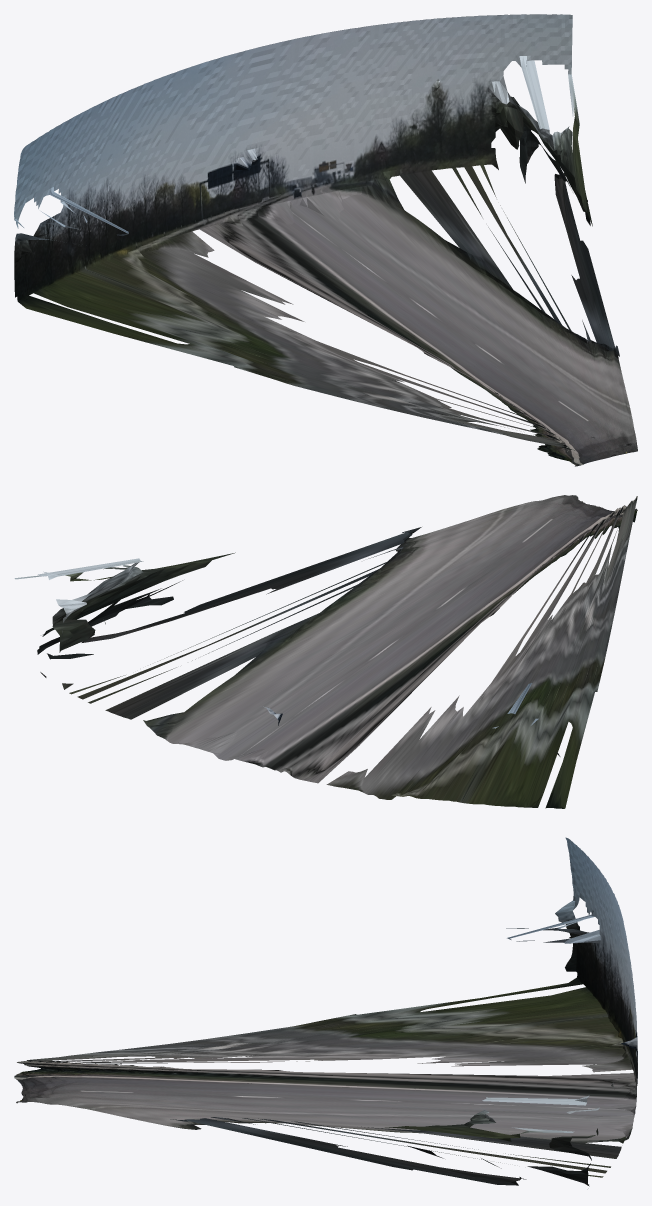
The picture shows the model from 3 angles, top to bottom: view 1: azimuth 30°, elevation 25°; view 2: azimuth 150°, elevation 25°; view 3: azimuth 270°, elevation 25°; orthographic projection. The views are drawn at different scales.
Visible parts, largest first — view 1: defaultobject; view 2: defaultobject; view 3: defaultobject.
Part boxes in pixels (<box>): defaultobject: <box>14,14,637,466</box>; defaultobject: <box>14,495,637,808</box>; defaultobject: <box>14,837,637,1186</box>.
Bounding box in the file's own units: 41 × 12.43 × 44.76.
1 material, 1 textured.
